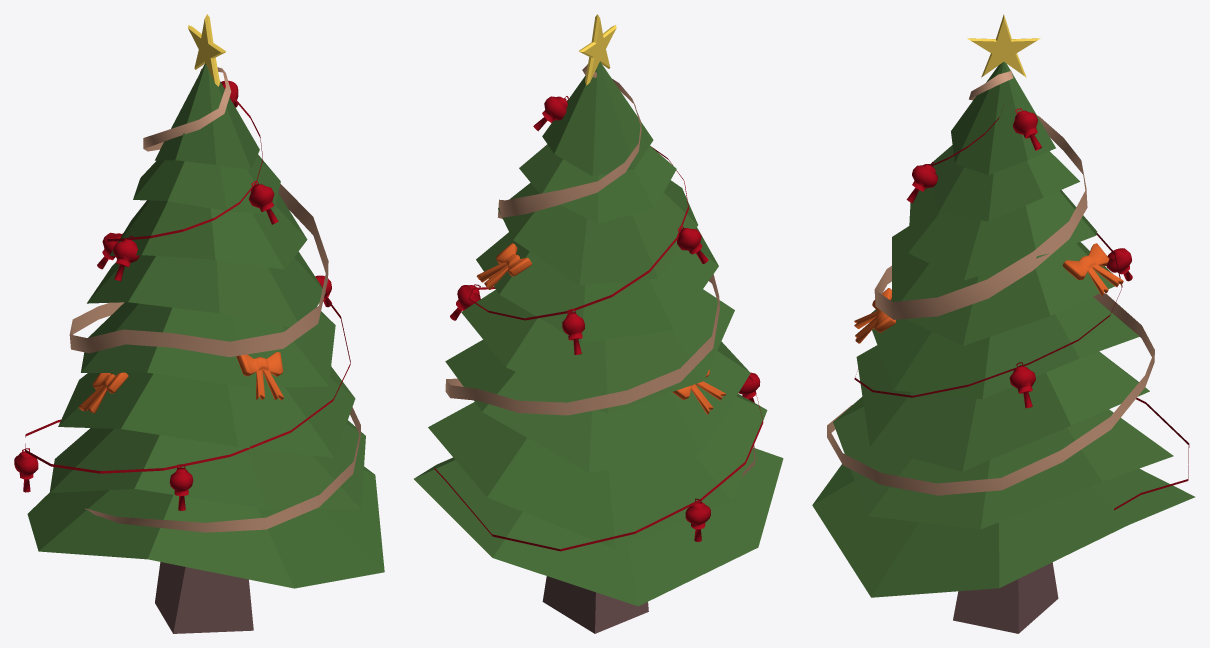
File: low_poly_christmas_tree.glb
3 renders of one model, left to right at view 1: azimuth 30°, elevation 25°; view 2: azimuth 150°, elevation 25°; view 3: azimuth 270°, elevation 25°, orthographic.
Parts seen in each view (by area): view 1: Cone.007, Cone.006, Cone.005, Cone.004, Cone.003, Veil_Thick, Cone.002, Stem, Cone.001, Cone, Veil_Thin, Ribbon.02 (+6 smaller); view 2: Cone.006, Cone.007, Cone.005, Cone.004, Cone.003, Cone.002, Cone, Veil_Thick, Cone.001, Stem, Veil_Thin, Star (+7 smaller); view 3: Cone.007, Cone.005, Cone.006, Cone.004, Veil_Thick, Cone.003, Cone.002, Cone.001, Cone, Stem, Star, Veil_Thin (+6 smaller).
Part boxes in pixels (x1,y1,x2,y2): Cone.007: (27,466,384,588); Cone.006: (49,420,365,509); Cone.005: (58,366,355,457); Cone.004: (81,302,335,387); Cone.003: (87,251,325,327); Veil_Thick: (69,67,360,532); Cone.002: (109,193,307,269); Stem: (155,562,253,633); Cone.001: (133,154,280,213); Cone: (155,63,259,169); Veil_Thin: (25,94,350,473); Ribbon.02: (236,352,283,400); Cone.006: (428,394,767,548); Cone.007: (414,448,783,606); Cone.005: (445,339,750,472); Cone.004: (461,289,734,413); Cone.003: (476,227,718,342); Cone.002: (498,180,697,285); Cone: (542,61,653,176); Veil_Thick: (445,64,755,477); Cone.001: (519,144,676,223); Stem: (542,576,648,633); Veil_Thin: (434,146,763,551); Star: (579,14,616,85); Cone.007: (812,464,1195,597); Cone.005: (856,345,1149,471); Cone.006: (833,397,1173,529); Cone.004: (869,296,1139,399); Veil_Thick: (827,70,1154,495); Cone.003: (892,226,1114,345); Cone.002: (908,187,1097,280); Cone.001: (930,145,1079,221); Cone: (951,62,1055,174); Stem: (953,562,1058,633); Star: (967,14,1040,77); Veil_Thin: (854,117,1189,510).
Bounding box in the file's own units: 2.68 × 4.65 × 2.71.
1 material, 1 textured.
